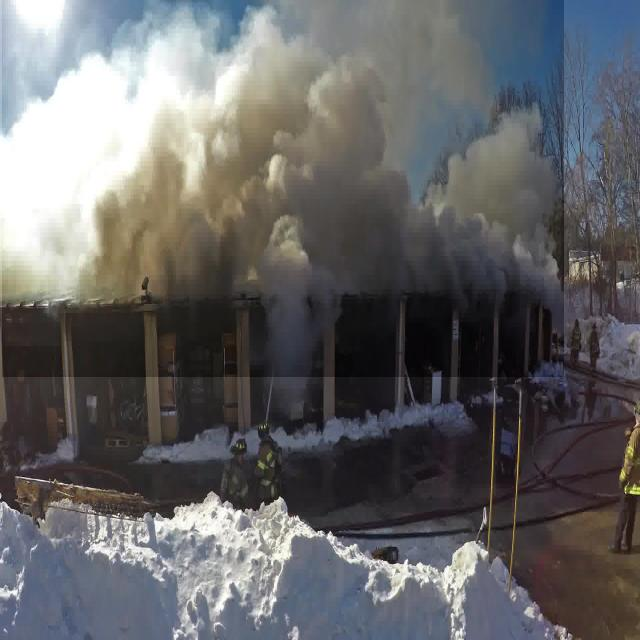Smoke: (2, 0, 564, 377)
